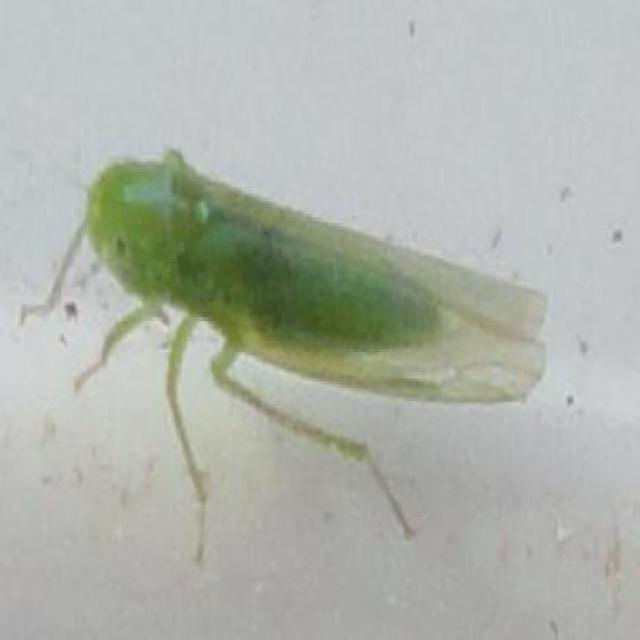green-leafhopper: (84, 153, 536, 444)
